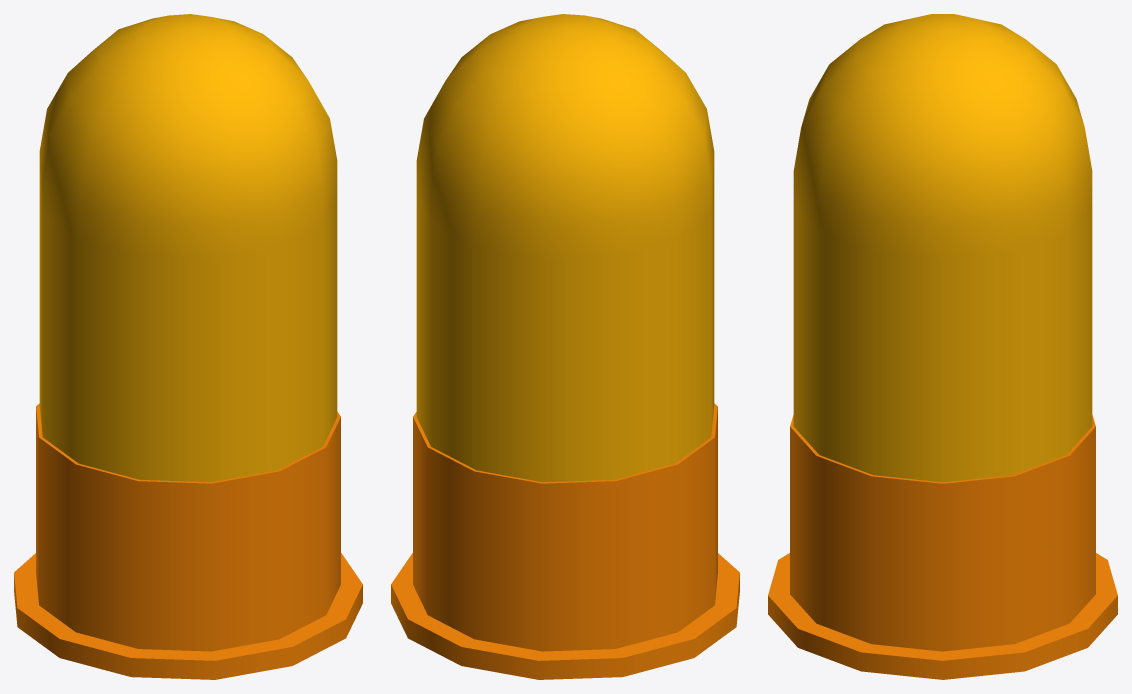
Rendered from Bullet.fbx.
3 views of the same model, side by side, from view 1: azimuth 30°, elevation 25°; view 2: azimuth 150°, elevation 25°; view 3: azimuth 270°, elevation 25° (orthographic).
Visible parts, largest first — view 1: Capsule; view 2: Capsule; view 3: Capsule.
Part boxes in pixels (<box>): Capsule: <box>14,14,362,679</box>; Capsule: <box>391,14,739,679</box>; Capsule: <box>768,14,1117,679</box>.
Bounding box in the file's own units: 116 × 213 × 116.
